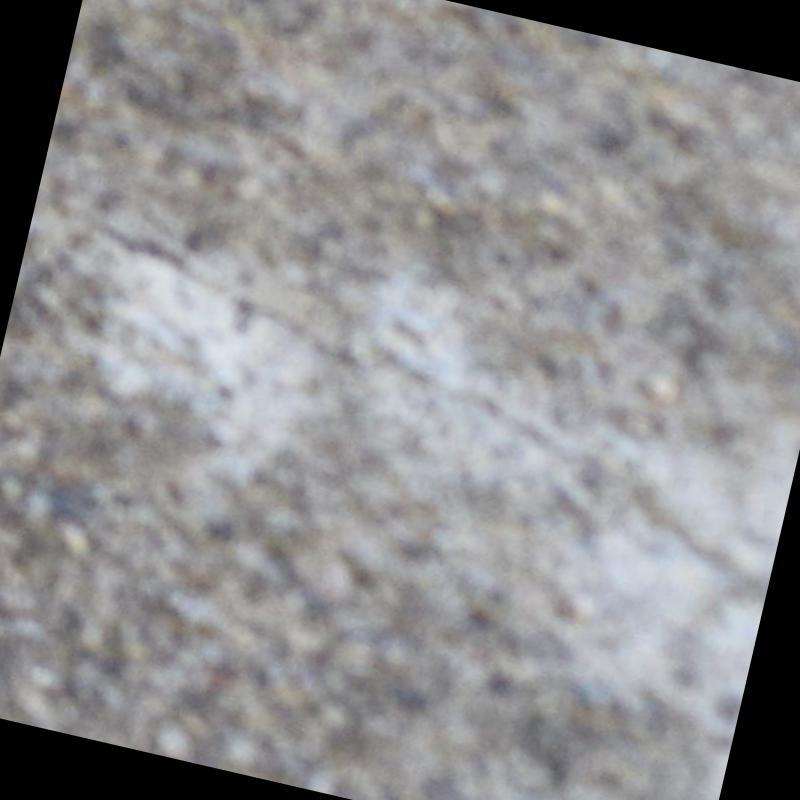pothole: (102, 227, 769, 598)
